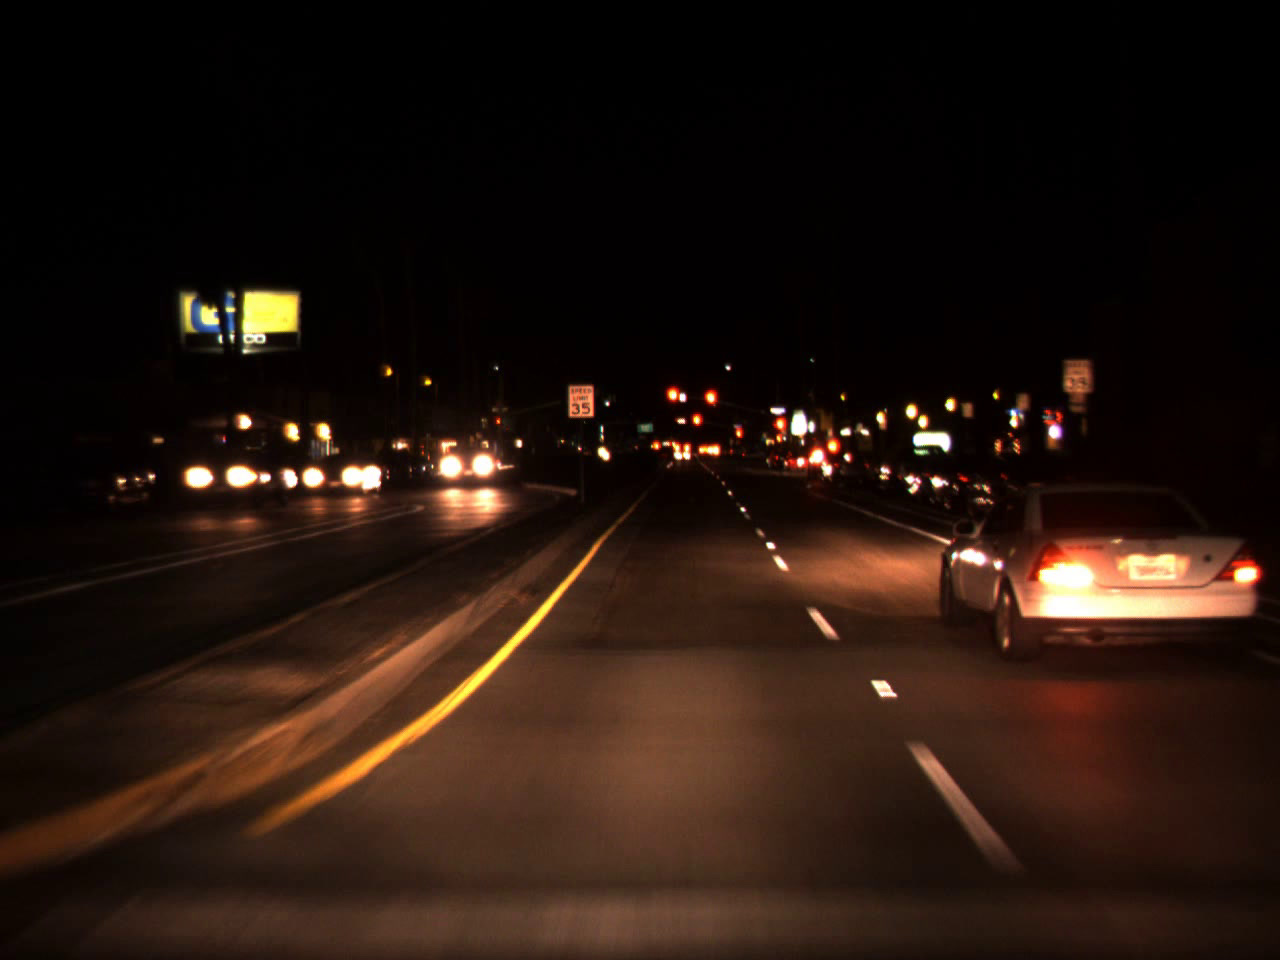stop: (771, 414, 789, 454), (665, 384, 683, 419), (702, 386, 718, 423), (690, 411, 703, 443), (734, 425, 743, 452), (495, 416, 501, 432)
